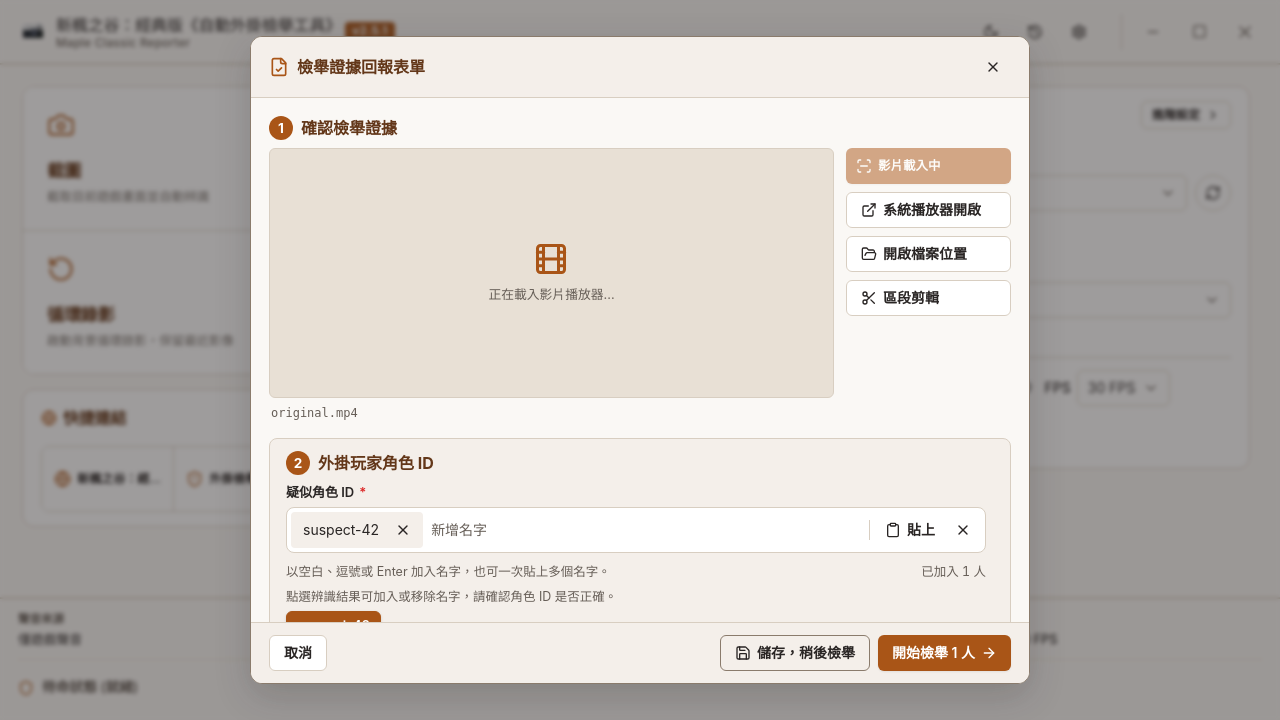
Test: App submission workflow › keeps the form open and exposes the failure when submission fails
The image size is (1280, 720).
Type "suspect-42" into the field with test id "report-suspect-id" at [646, 530], box [431,512,861,548]
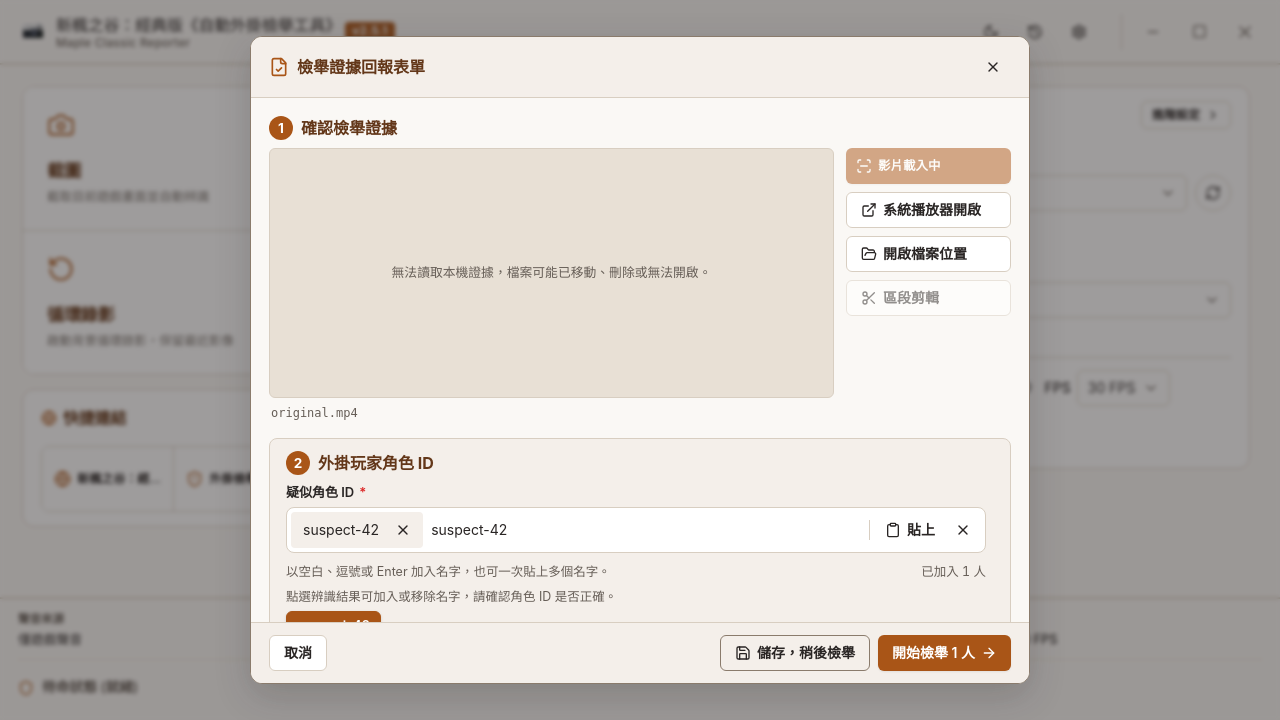
Click the button with test id "report-submit" at [944, 653], box [878,635,1011,671]
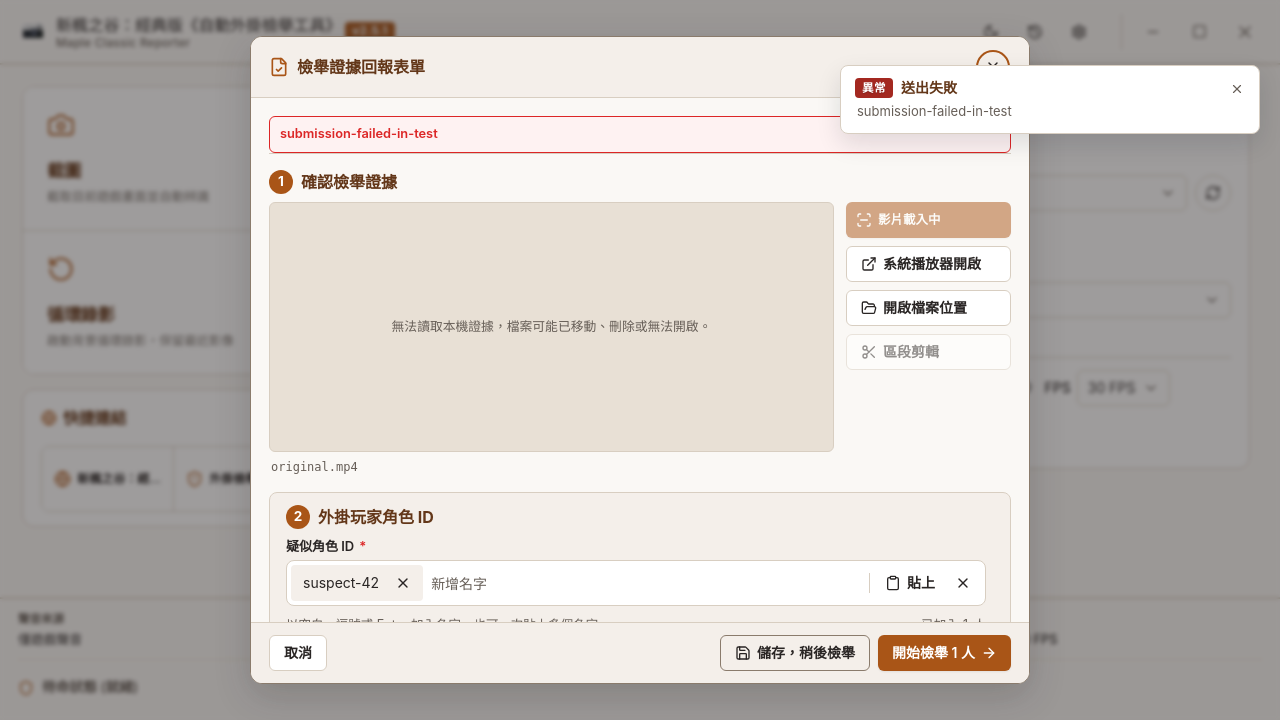
Expected: the text "submission-failed-in-test" is shown, [269,116,1011,152]
